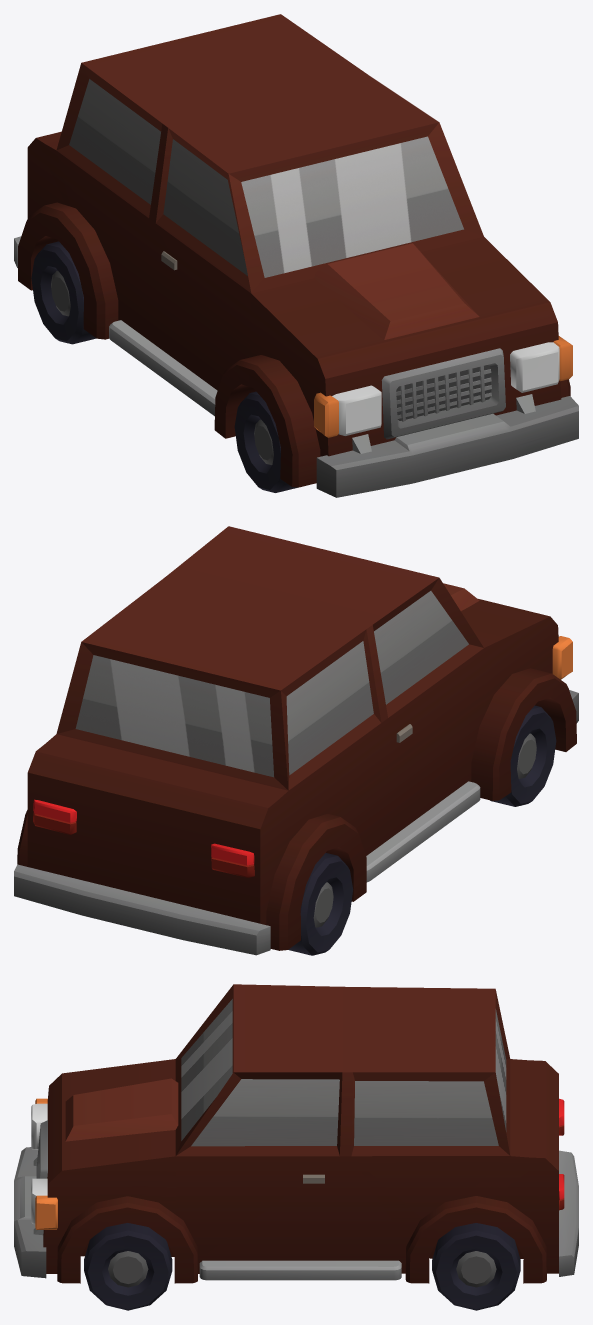
Rendered from Car_3_13.fbx.
The picture shows the model from 3 angles, top to bottom: view 1: azimuth 30°, elevation 25°; view 2: azimuth 150°, elevation 25°; view 3: azimuth 270°, elevation 25°; orthographic projection. The views are drawn at different scales.
Parts seen in each view (by area): view 1: Car_3_13, Wheel_Br, Wheel_Fr; view 2: Car_3_13, Wheel_Br, Wheel_Fr; view 3: Car_3_13, Wheel_Bl, Wheel_Fl.
Boxes of the visible parts, x1,y1,x2,y2 form: Car_3_13: [14, 14, 578, 497]; Wheel_Br: [31, 241, 96, 344]; Wheel_Fr: [234, 391, 297, 492]; Car_3_13: [14, 526, 578, 955]; Wheel_Br: [288, 853, 353, 955]; Wheel_Fr: [490, 705, 556, 806]; Car_3_13: [14, 984, 578, 1283]; Wheel_Bl: [432, 1223, 520, 1310]; Wheel_Fl: [84, 1223, 172, 1310].
Bounding box in the file's own units: 113 × 102 × 230.
